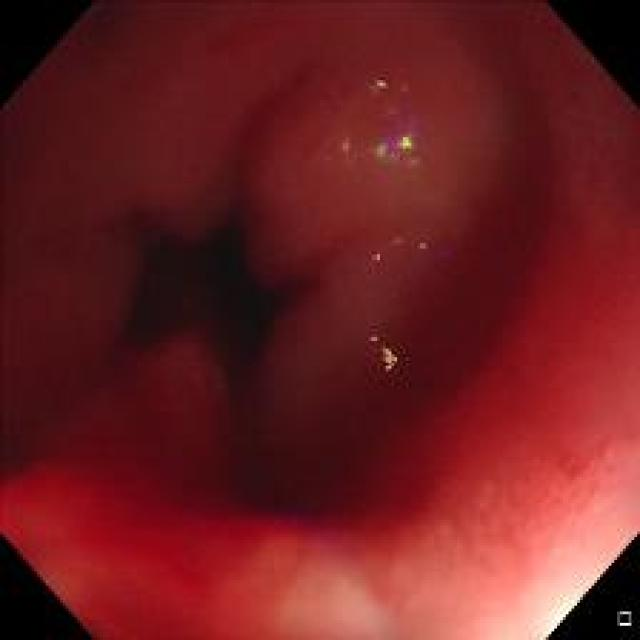color misalignment: (368, 129, 425, 179), (325, 126, 360, 178), (391, 236, 456, 262), (361, 75, 405, 112), (366, 332, 399, 371), (365, 246, 380, 268)
contrast: (76, 139, 332, 458)
saturation: (504, 528, 585, 635)
